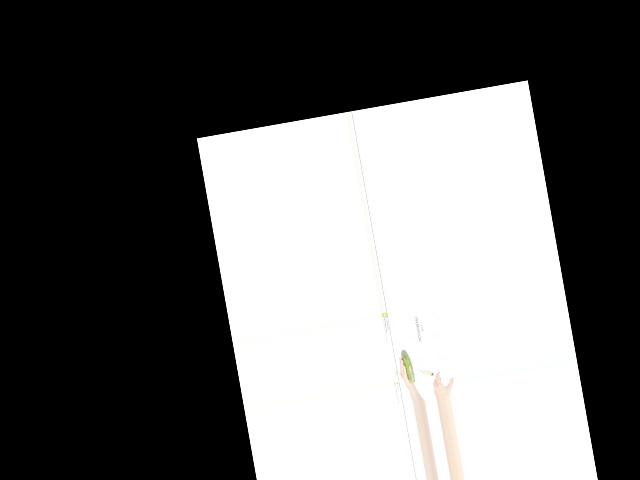cucumber: (400, 349, 415, 384)
